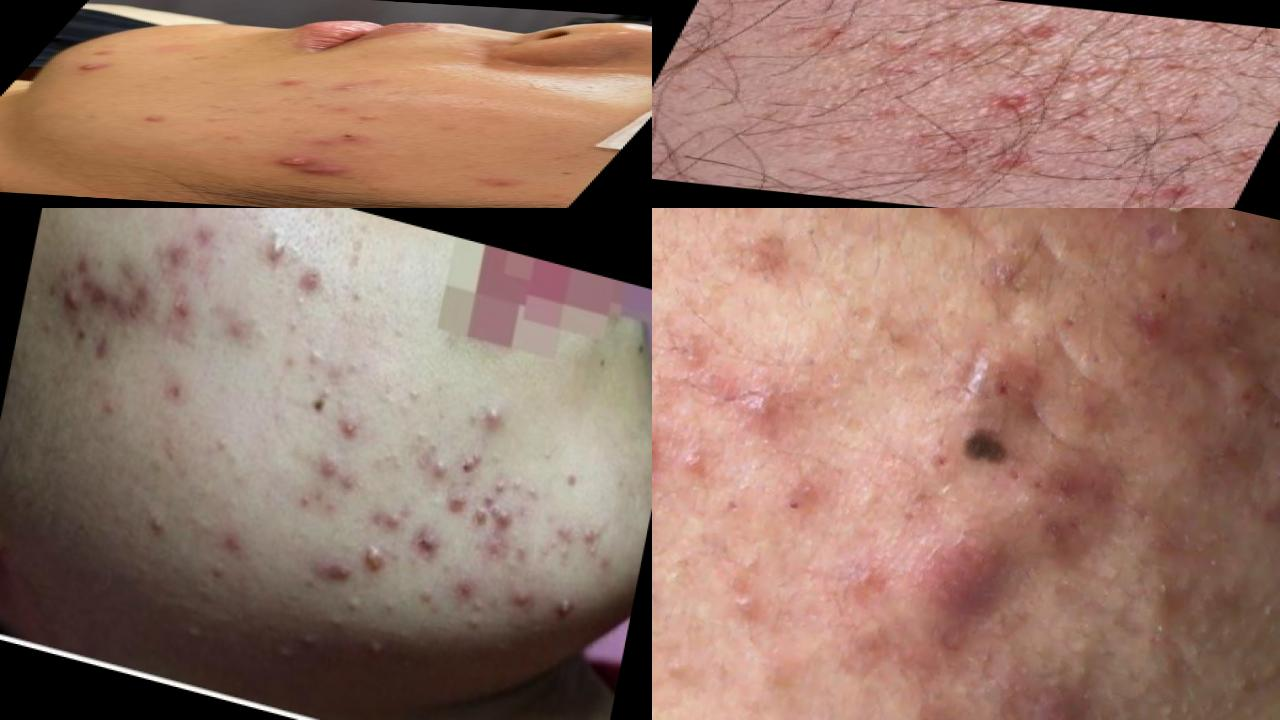acne_scars: (67, 273, 154, 333)
cystic: (891, 518, 1023, 638), (705, 569, 783, 658), (724, 374, 791, 441)
folliculitis: (995, 87, 1048, 111)
papular: (313, 545, 367, 595), (156, 278, 203, 331), (98, 113, 185, 138), (297, 450, 351, 490), (159, 230, 202, 279), (408, 517, 449, 568), (235, 75, 316, 99), (327, 408, 375, 446), (483, 508, 523, 548), (219, 523, 258, 562), (299, 132, 380, 150), (504, 580, 541, 618), (451, 571, 485, 611), (414, 579, 451, 615), (552, 512, 587, 550), (376, 500, 412, 536), (1154, 180, 1203, 204), (446, 490, 468, 533)
purulent: (254, 221, 300, 284), (474, 394, 522, 443), (354, 538, 396, 580), (42, 60, 108, 81), (307, 81, 376, 101), (550, 589, 585, 626), (319, 114, 391, 130)
sebo-crystan-conglo: (1172, 372, 1280, 562), (1135, 252, 1266, 355), (995, 439, 1115, 538), (280, 168, 363, 182), (238, 154, 313, 168)
whitehead: (404, 428, 458, 498), (138, 503, 180, 556), (195, 426, 248, 468), (192, 555, 237, 603), (393, 373, 431, 429), (492, 467, 546, 506), (336, 274, 377, 325), (243, 304, 277, 348), (578, 518, 611, 561), (301, 339, 336, 374), (464, 598, 490, 640), (299, 620, 328, 656), (548, 540, 577, 571), (324, 604, 351, 637), (265, 637, 294, 667), (290, 288, 311, 321), (335, 591, 368, 611), (364, 638, 388, 662)
